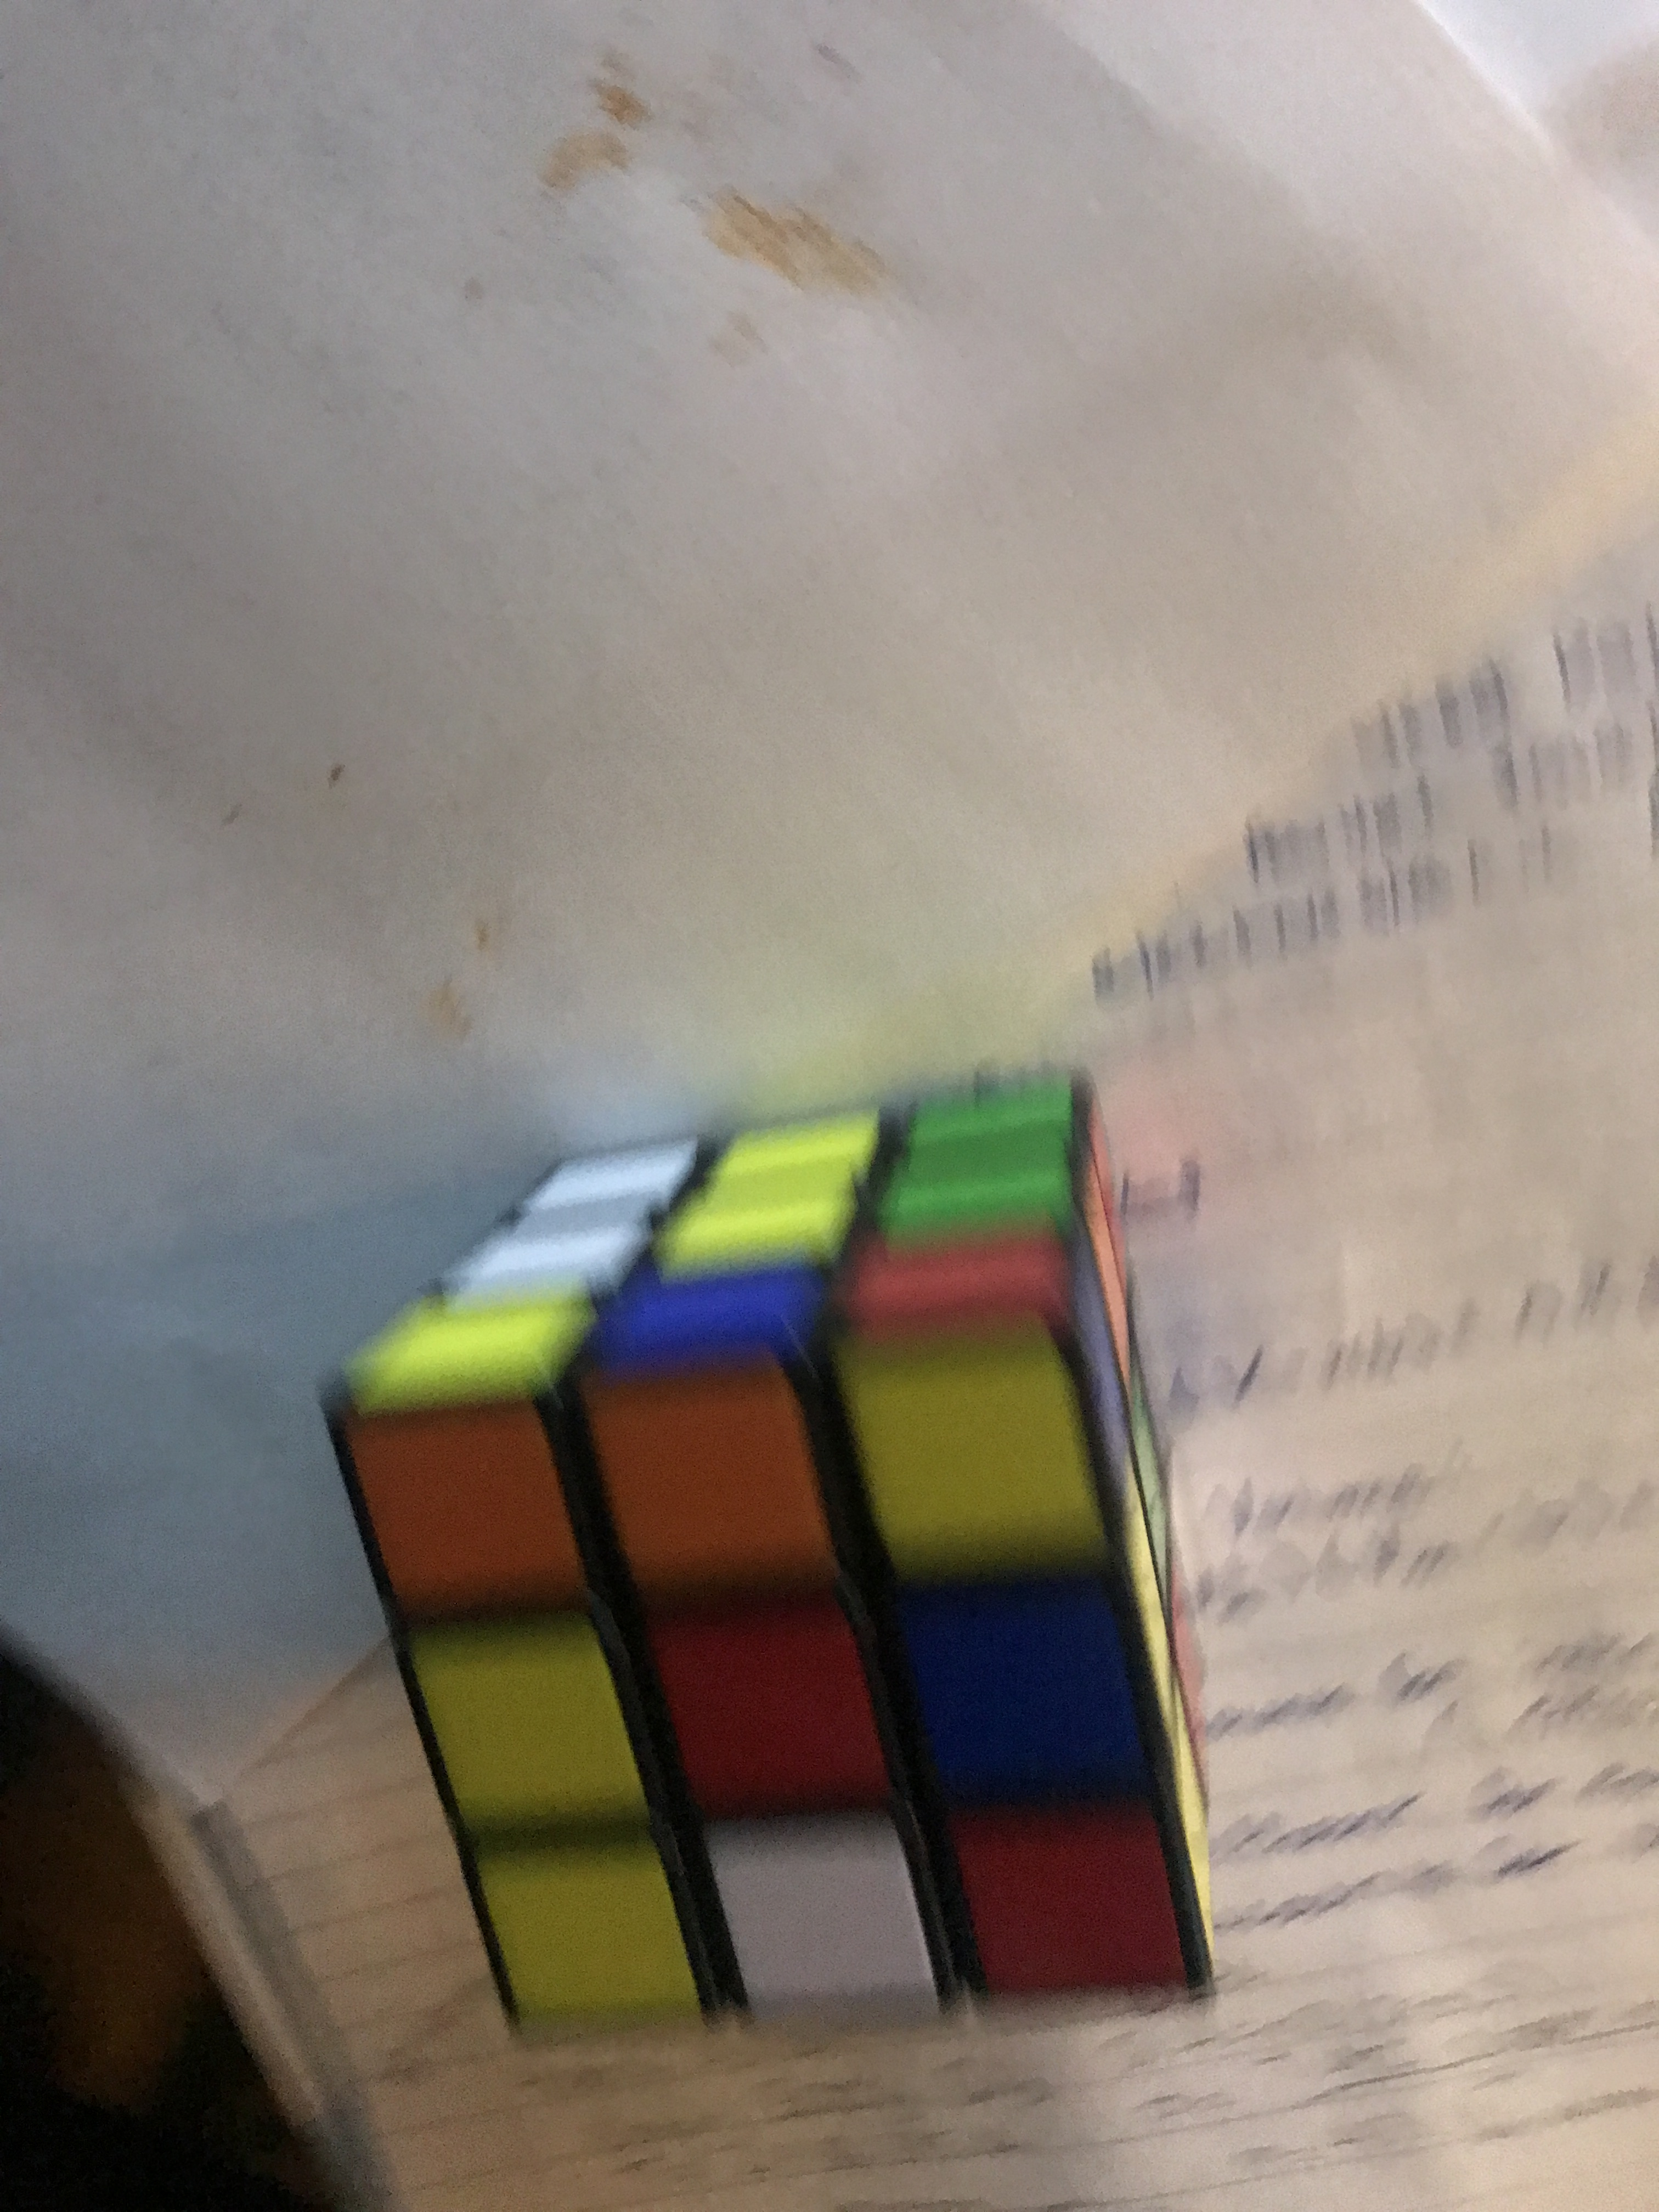rubiks: (319, 1078, 1232, 2029)
